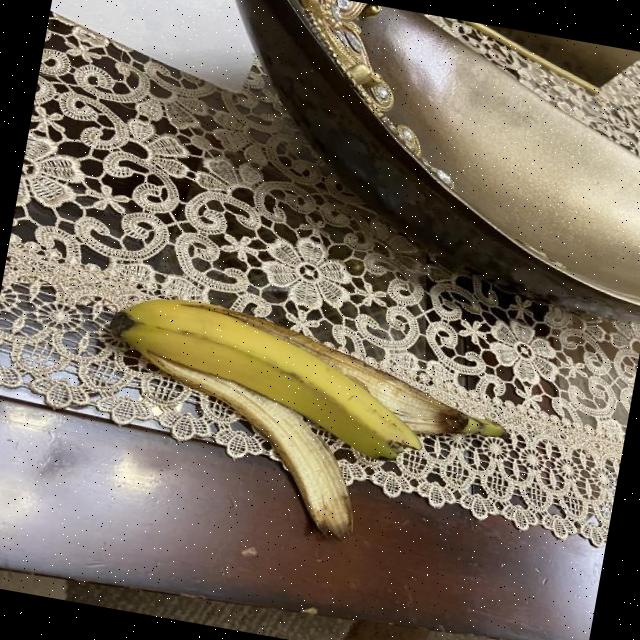banana-peel: (76, 283, 520, 566), (92, 284, 441, 466), (100, 343, 378, 543)
